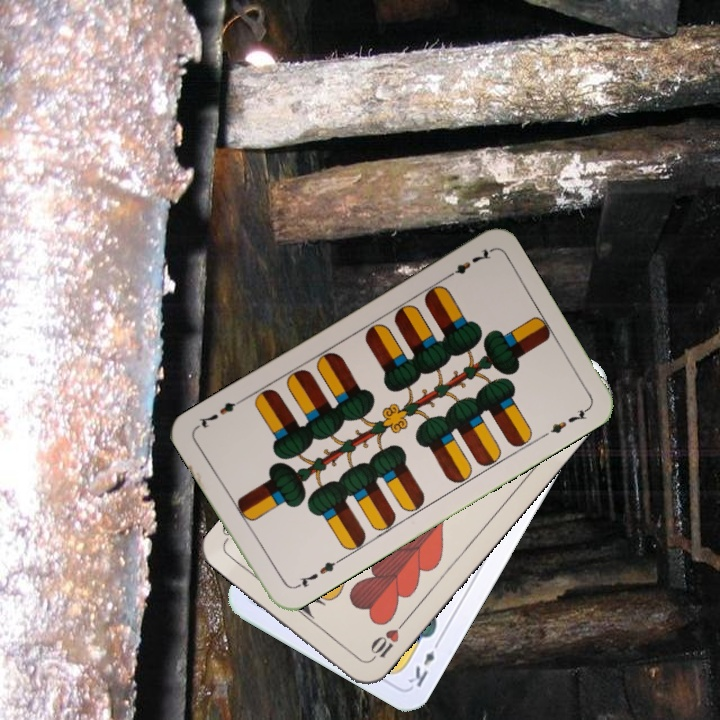E7: (441, 244, 494, 282), (289, 555, 343, 592)
EK: (404, 634, 444, 690)
H10: (363, 617, 408, 666)
